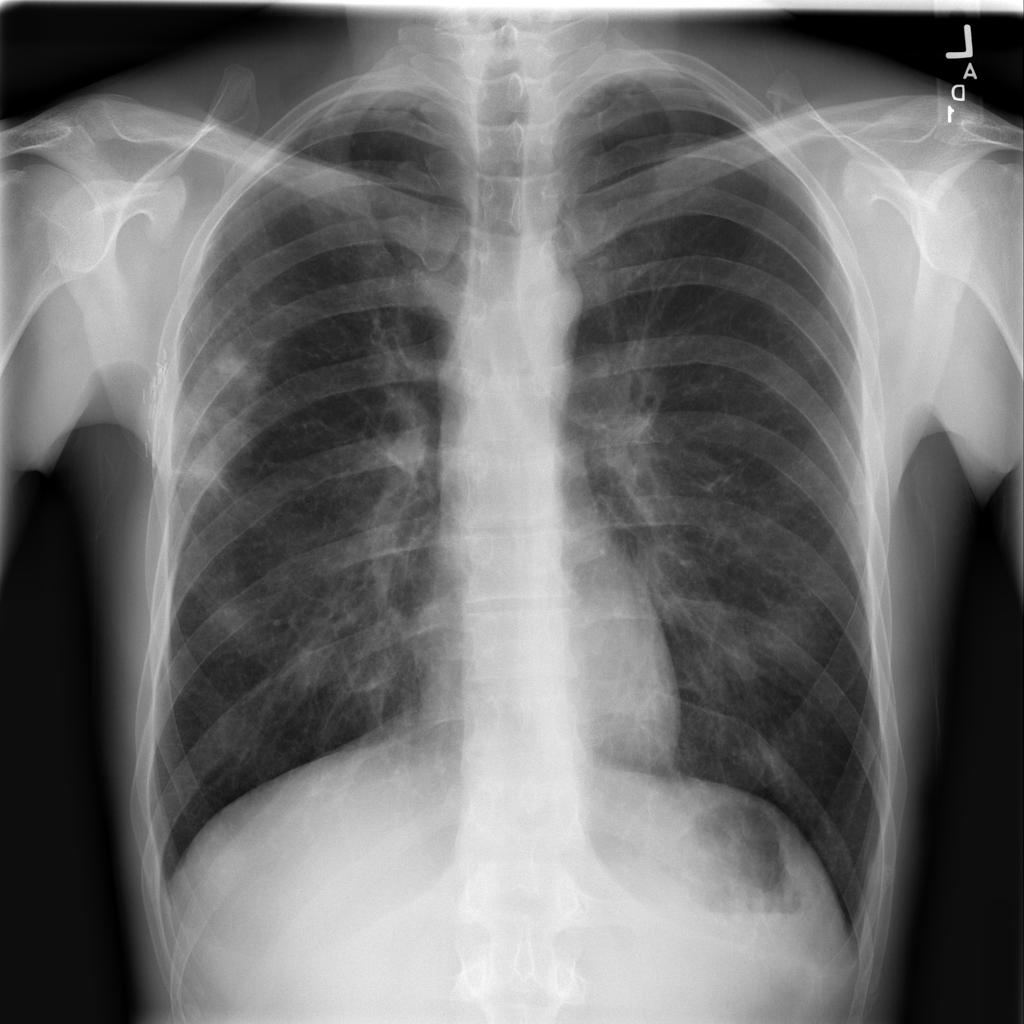nodule: (736, 582, 843, 684), (188, 580, 270, 658), (273, 621, 347, 703), (192, 325, 273, 394)
